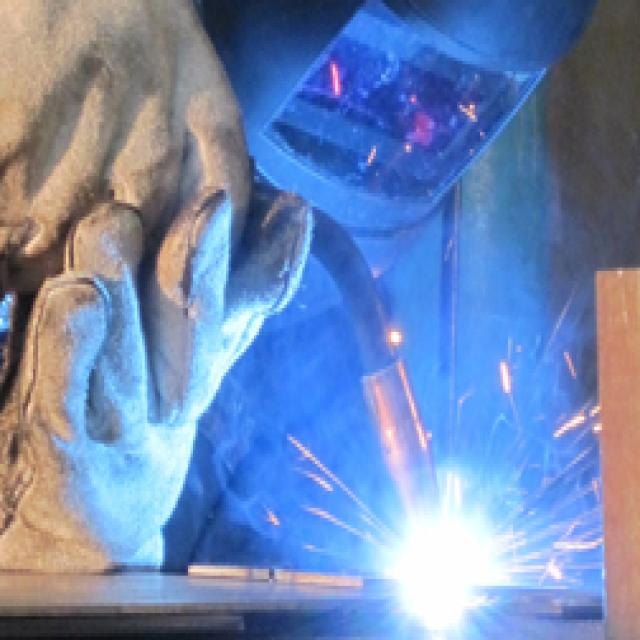welding: (390, 505, 504, 622)
